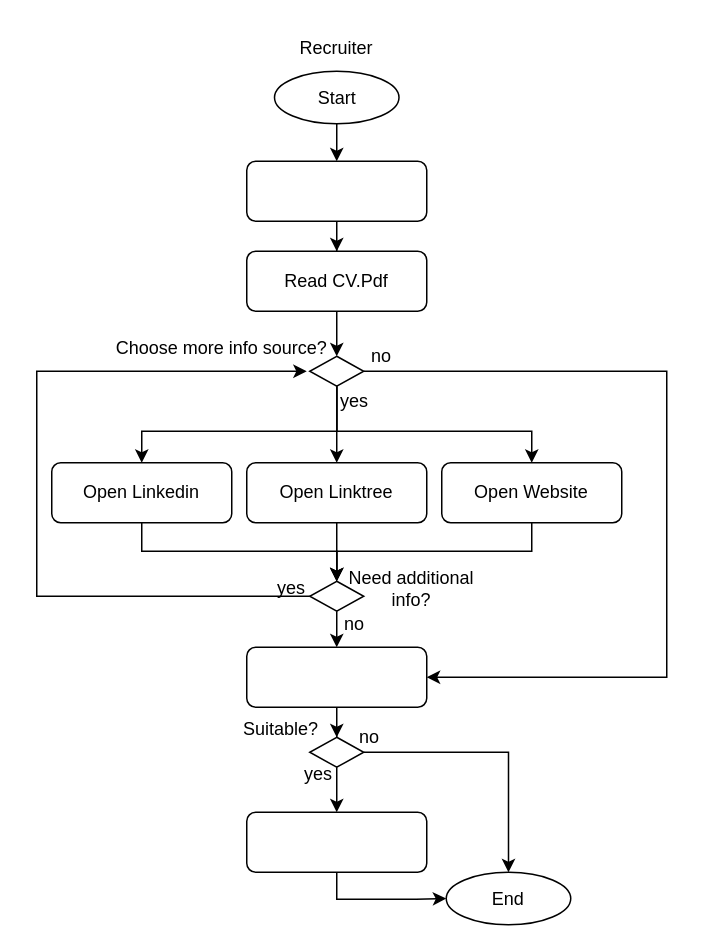
The diagram is 705 pixels wide and 951 high, and some of its shapes have lost their labels. Each missing label, with the centre of its shape:
"Contact Candidate" goes at [336,841].
"Evaluate Candidate" goes at [336,676].
"Receive CV.Pdf" goes at [336,190].
